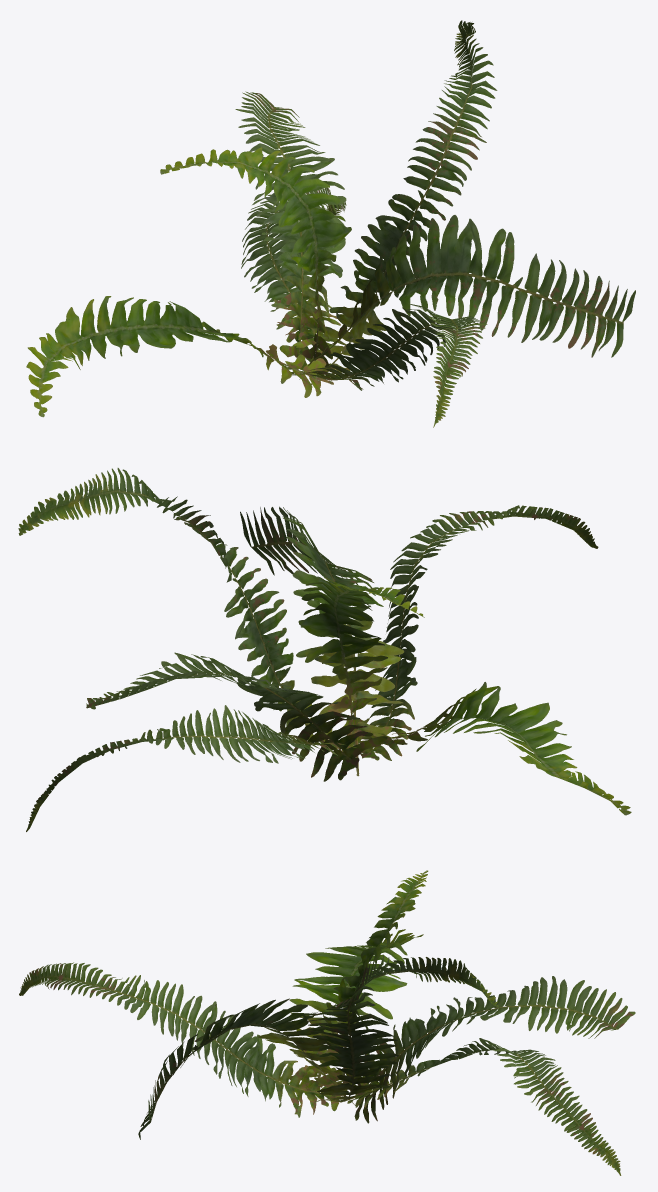
File: fern_02_a-v02.glb
3 renders of one model, top to bottom at view 1: azimuth 30°, elevation 25°; view 2: azimuth 150°, elevation 25°; view 3: azimuth 270°, elevation 25°, orthographic. The views are drawn at different scales.
Visible parts, largest first — view 1: fern_02_a; view 2: fern_02_a; view 3: fern_02_a.
Boxes of the visible parts, x1=… form: fern_02_a: x1=26, y1=20, x2=635, y2=427; fern_02_a: x1=18, y1=468, x2=631, y2=831; fern_02_a: x1=19, y1=870, x2=635, y2=1175.
Bounding box in the file's own units: 0.5519 × 0.2868 × 0.6134.
1 material, 1 textured.
